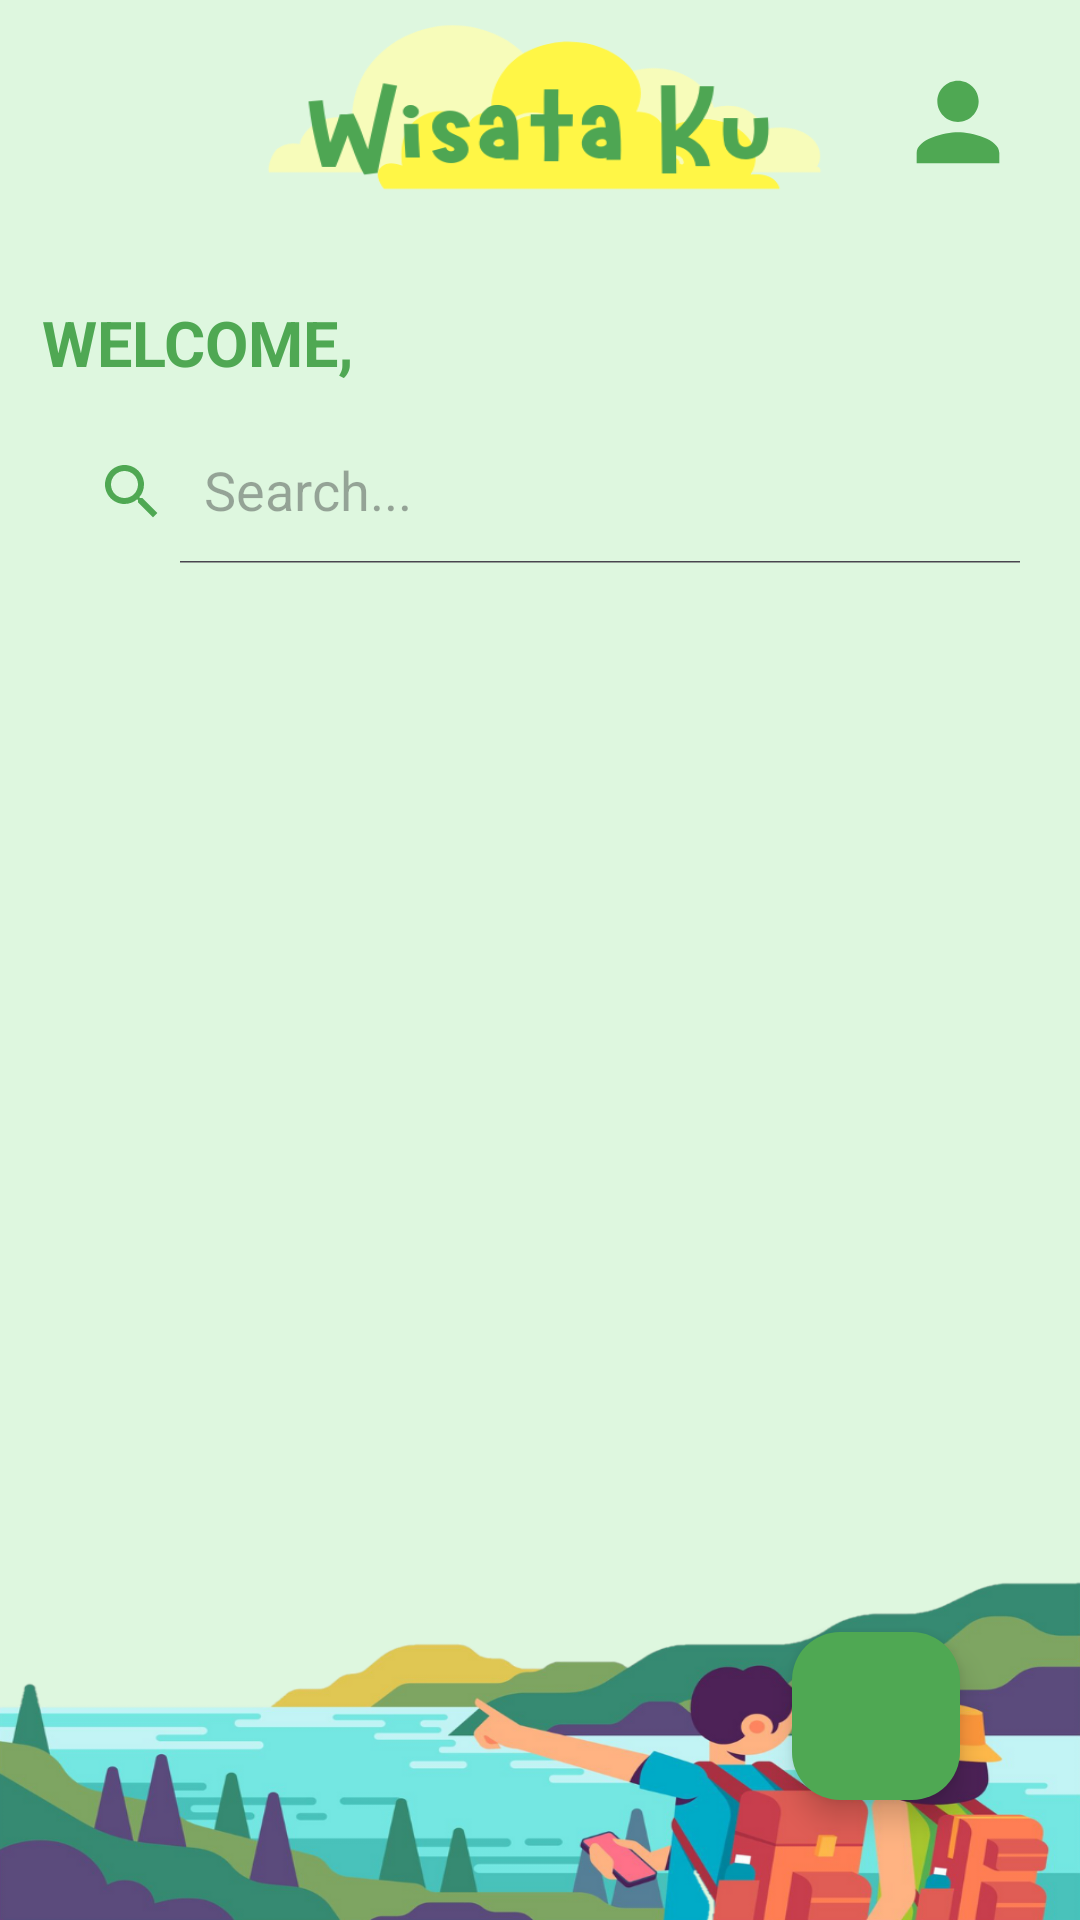

Icon click points for this 1080×1920 phone screenshot, format [x,y]:
person: [958,122]
